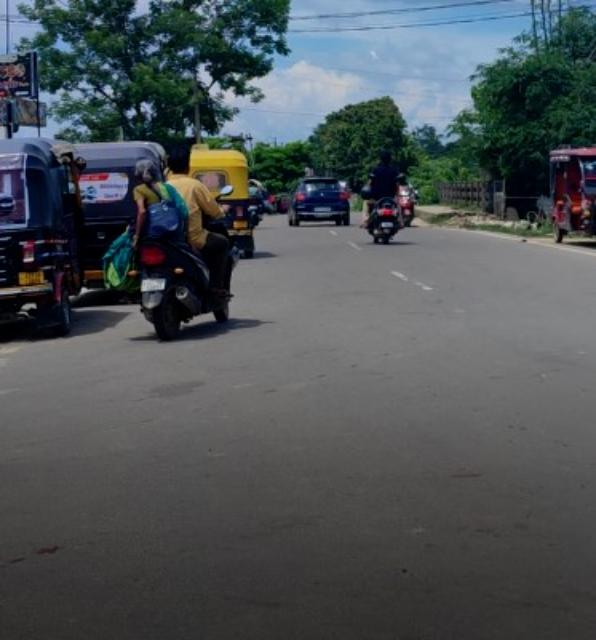licensePlate: (138, 275, 168, 294), (379, 218, 397, 231)
motorcycle: (123, 147, 240, 339), (366, 146, 408, 252)
withoutHelmet: (132, 162, 164, 186), (168, 151, 197, 176), (378, 148, 394, 164)
